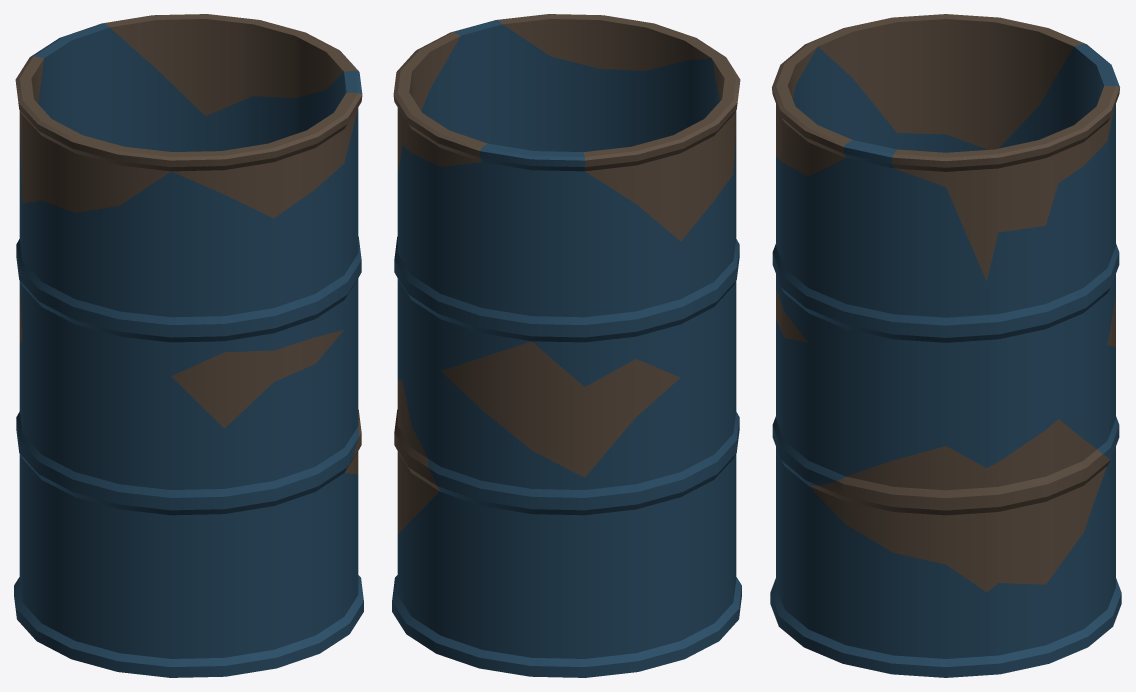
Rendered from prop-drum.glb.
3 views of the same model, side by side, from view 1: azimuth 30°, elevation 25°; view 2: azimuth 150°, elevation 25°; view 3: azimuth 270°, elevation 25° (orthographic).
Parts seen in each view (by area): view 1: drum; view 2: drum; view 3: drum.
Part boxes in pixels (<box>): drum: <box>14,14,363,677</box>; drum: <box>392,14,741,677</box>; drum: <box>770,14,1121,677</box>.
Size of the model in its own units: 0.7041 by 1.14 by 0.7041.
